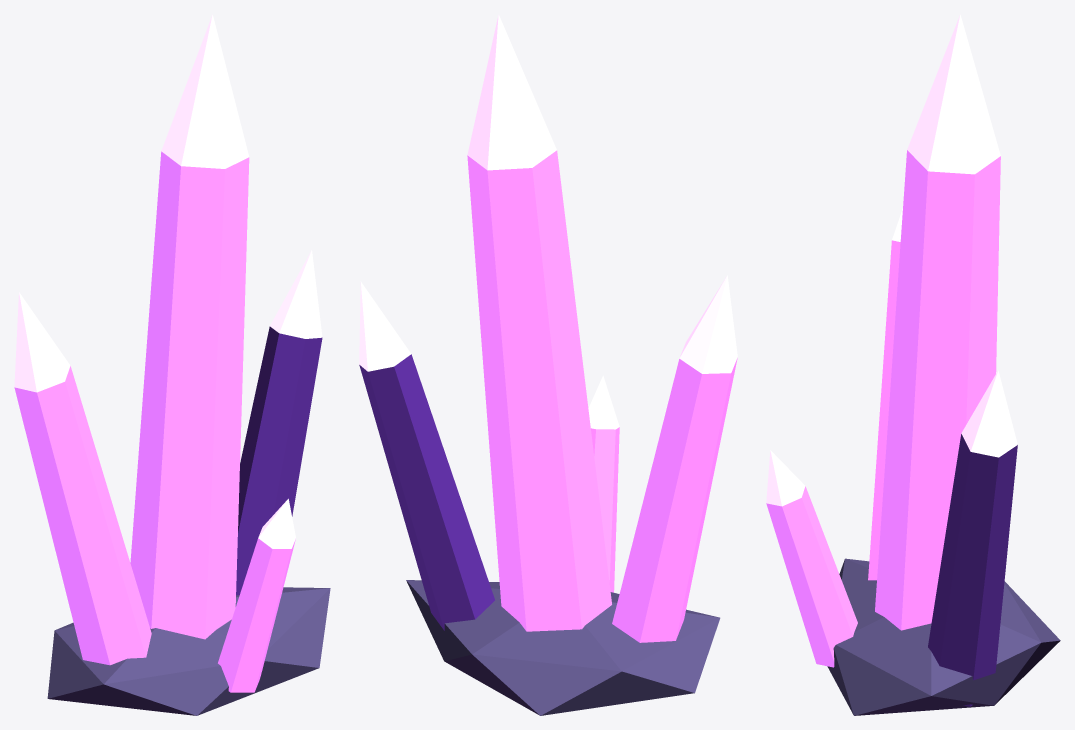
The model's file is Energy_Crystal_Spire.glb.
3 views of the same model, side by side, from view 1: azimuth 30°, elevation 25°; view 2: azimuth 150°, elevation 25°; view 3: azimuth 270°, elevation 25° (orthographic). The views are drawn at different scales.
Parts seen in each view (by area): view 1: Energy_Crystal_Spire; view 2: Energy_Crystal_Spire; view 3: Energy_Crystal_Spire.
Boxes of the visible parts, x1,y1,x2,y2 form: Energy_Crystal_Spire: (14,14,330,715); Energy_Crystal_Spire: (359,14,737,715); Energy_Crystal_Spire: (766,14,1060,715).
Bounding box in the file's own units: 4.51 × 8.2 × 3.25.
Materials: 1 (1 with a texture image).
